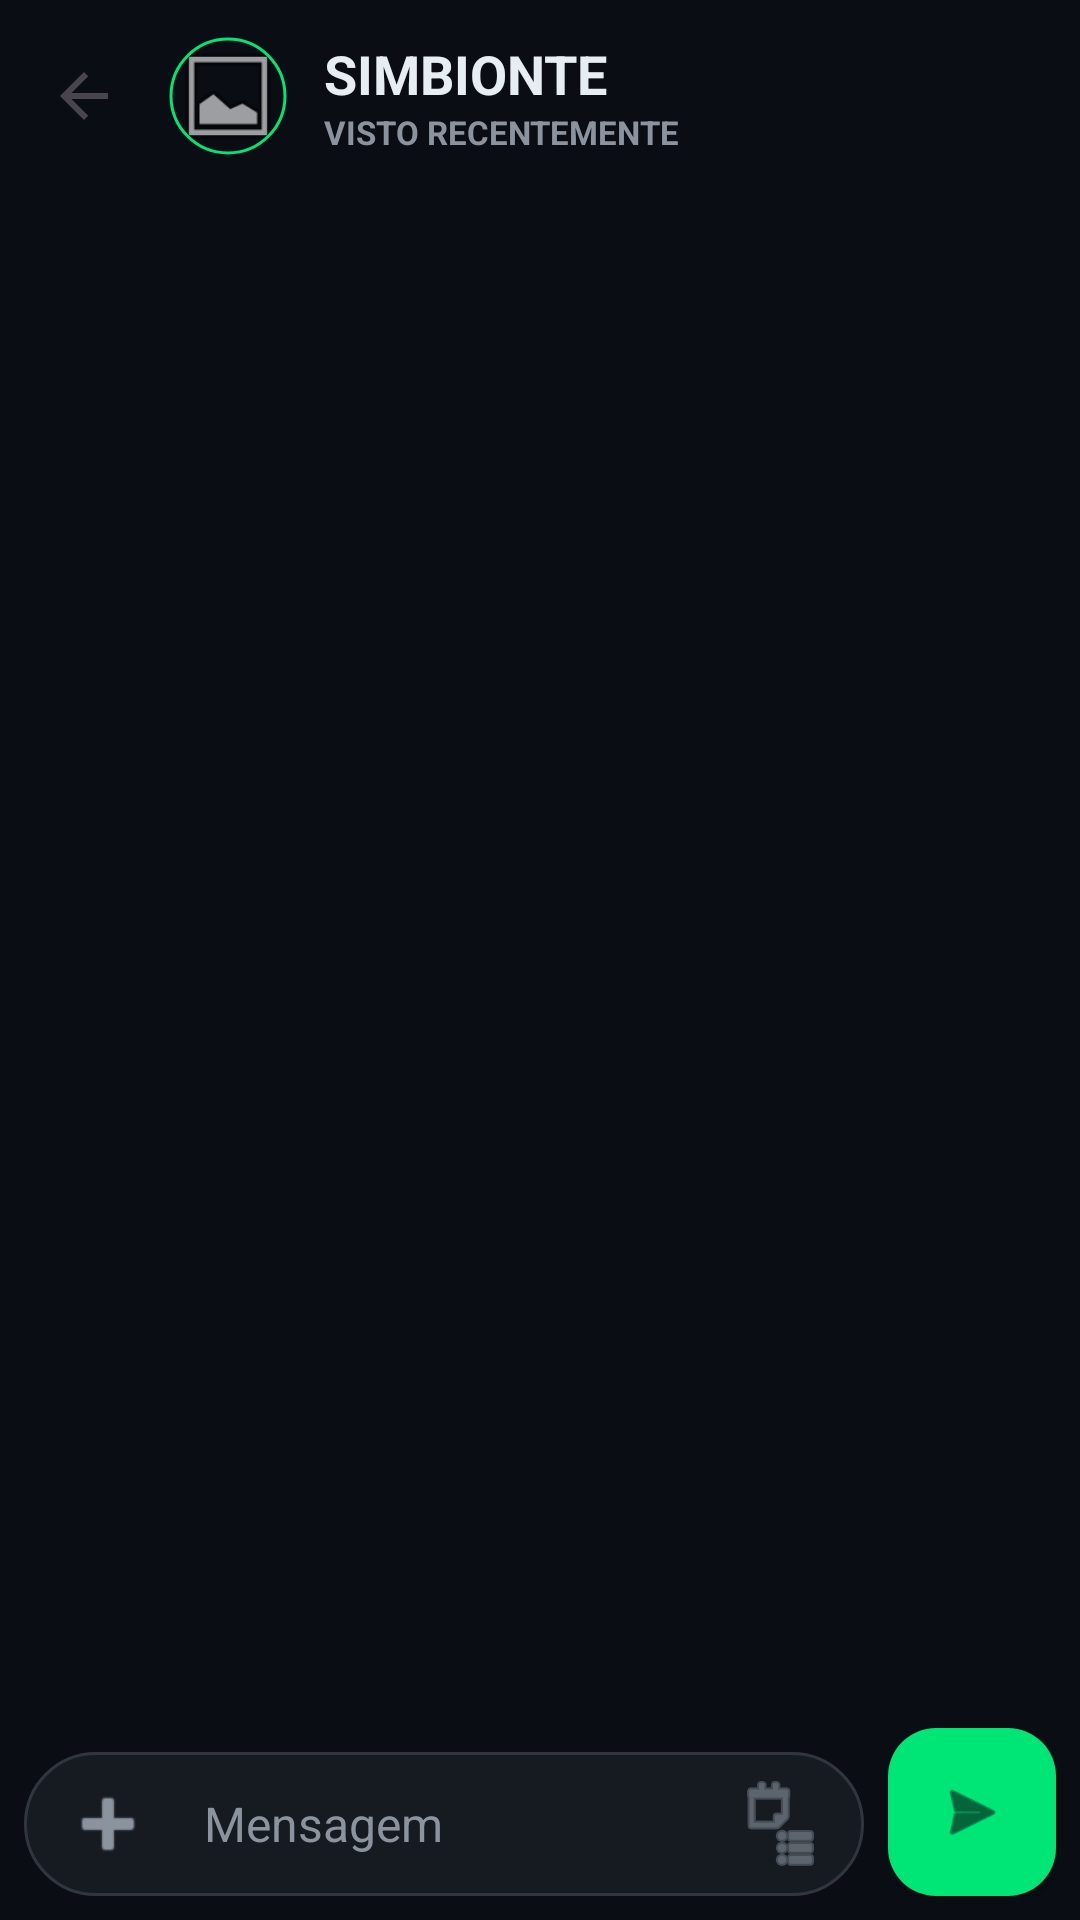

Icon bounding boxes for this 1080px x 1920px phone screenshot, format detection(x1, y1, x2, y2):
add: detection(36, 1752, 180, 1896)
agenda: detection(708, 1752, 852, 1896)
Enviar mensagem: detection(888, 1728, 1056, 1896)
